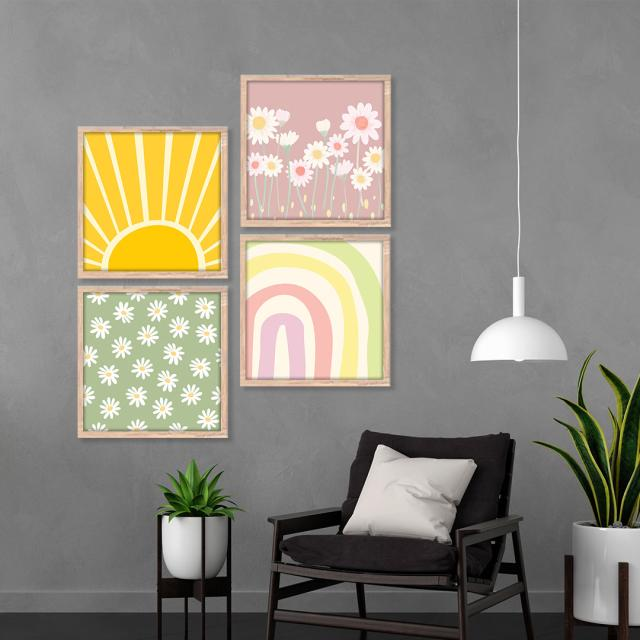painting: (78, 123, 230, 278), (240, 234, 392, 389), (78, 288, 230, 443), (240, 73, 392, 227)
